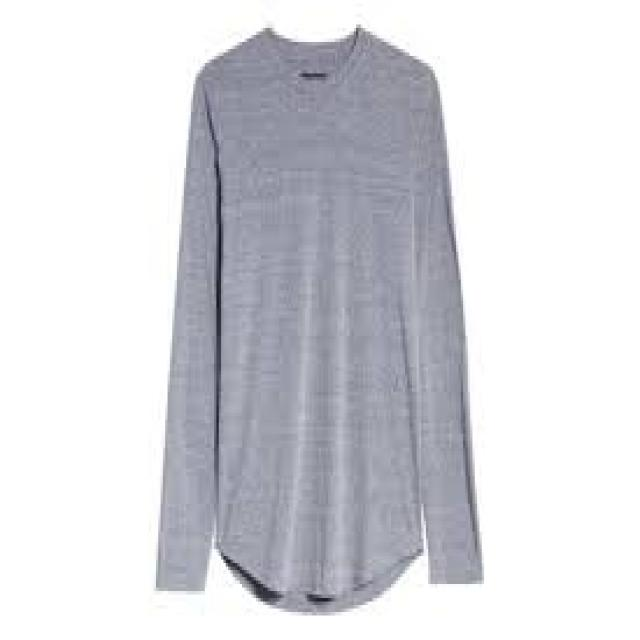plain: (154, 16, 484, 615)
